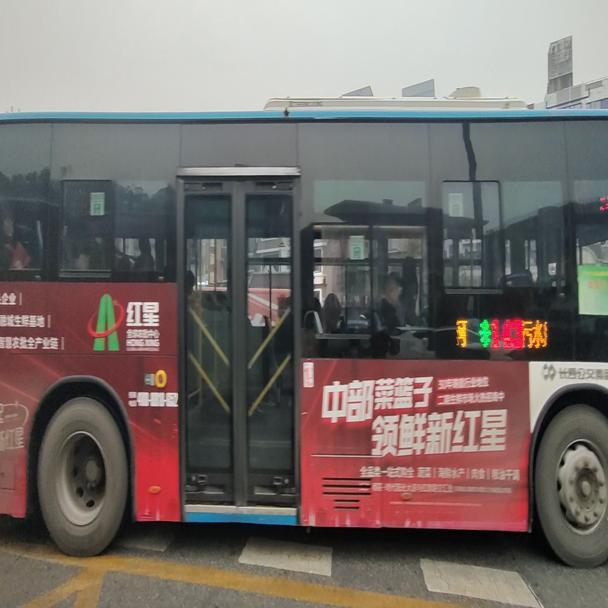bus: (0, 101, 604, 576)
screen: (490, 315, 522, 355)
